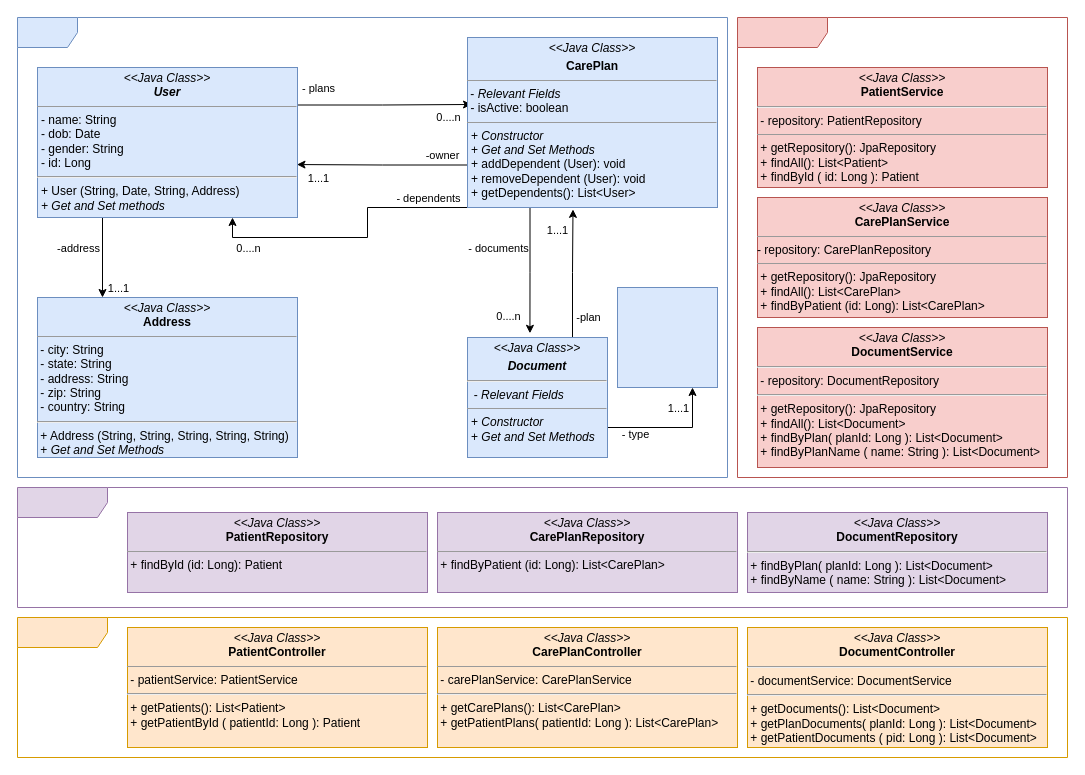
The diagram is 1085 pixels wide and 775 high, and some of its shapes have lost their labels. Here are the shapes that lost their labels. From the top down, the box of each, then its label:
(16, 16, 728, 478): models
(736, 16, 1068, 478): services
(616, 286, 718, 388): <<Java Enum>> DocType + COVERAGE + BILL + EOB
(16, 486, 1068, 608): repositories
(16, 616, 1068, 758): controllers
